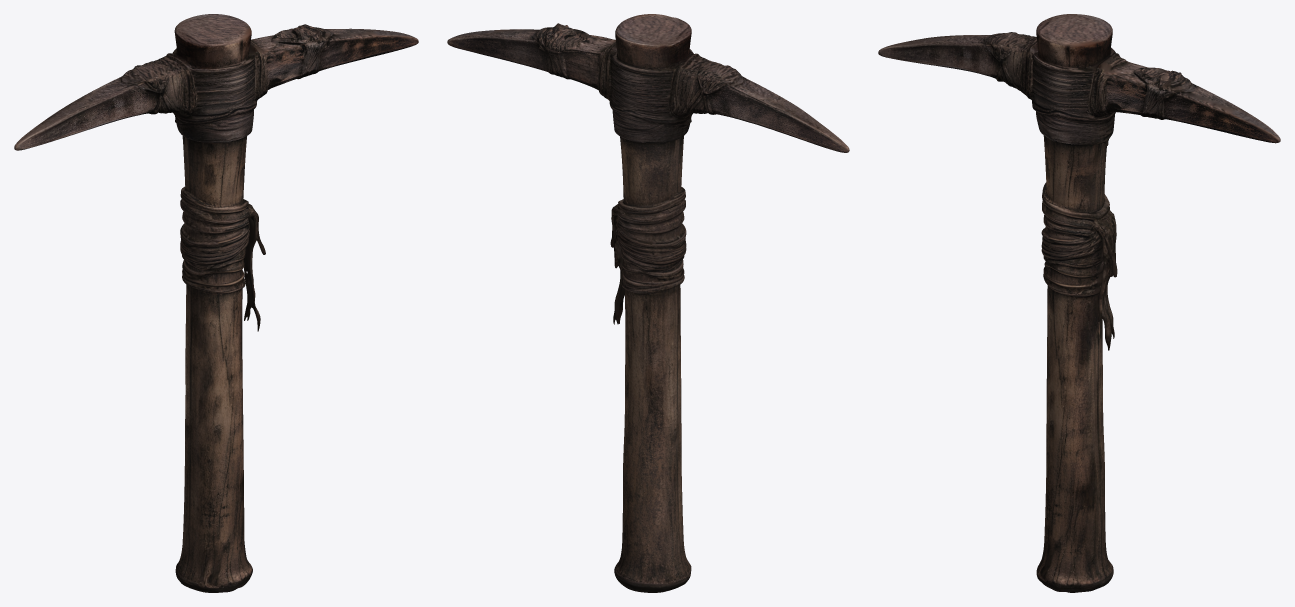
The model's file is pixellabs-pickaxe-3560.high.glb.
The picture shows the model from 3 angles, left to right: view 1: azimuth 30°, elevation 25°; view 2: azimuth 150°, elevation 25°; view 3: azimuth 330°, elevation 25°; orthographic projection.
Parts seen in each view (by area): view 1: material; view 2: material; view 3: material.
Boxes of the visible parts, bbox=[...] form: material: bbox=[14, 14, 418, 592]; material: bbox=[447, 14, 849, 592]; material: bbox=[878, 14, 1280, 592].
Bounding box in the file's own units: 0.8406 × 1.1 × 0.1513.
1 material, 1 textured.
